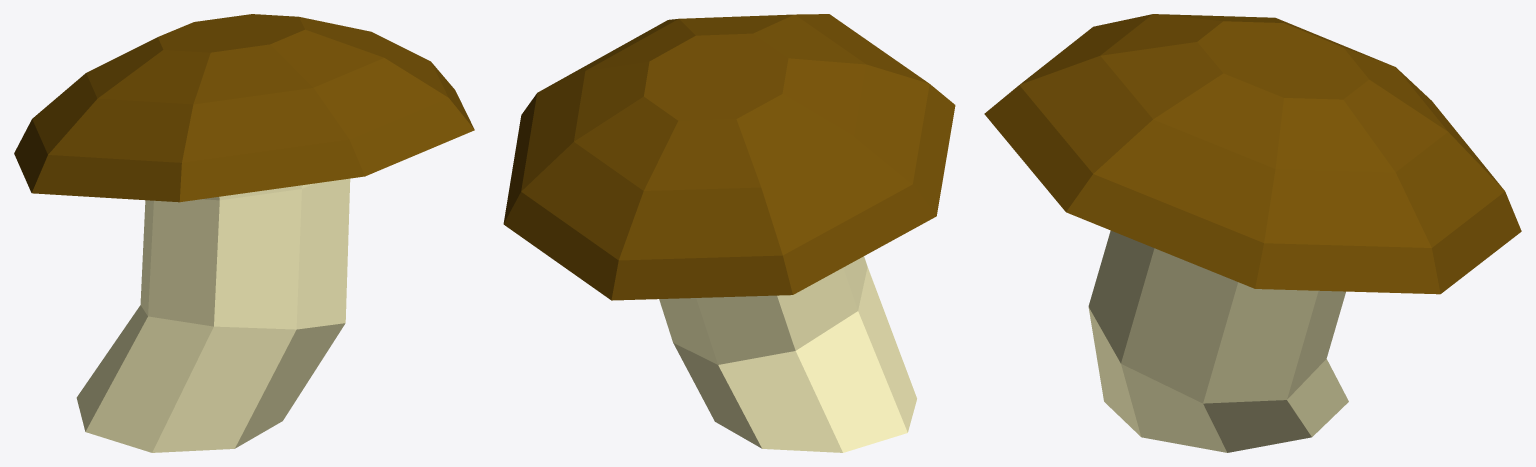
The model's file is Lowpoly_Mushroom_Brown_01.fbx.
3 renders of one model, left to right at view 1: azimuth 30°, elevation 25°; view 2: azimuth 150°, elevation 25°; view 3: azimuth 270°, elevation 25°, orthographic. The views are drawn at different scales.
Parts seen in each view (by area): view 1: Cube.007; view 2: Cube.007; view 3: Cube.007.
Part boxes in pixels (bbox=[...]): Cube.007: bbox=[14, 14, 474, 452]; Cube.007: bbox=[503, 14, 955, 452]; Cube.007: bbox=[984, 14, 1521, 452].
Size of the model in its own units: 386 by 309 by 375.
